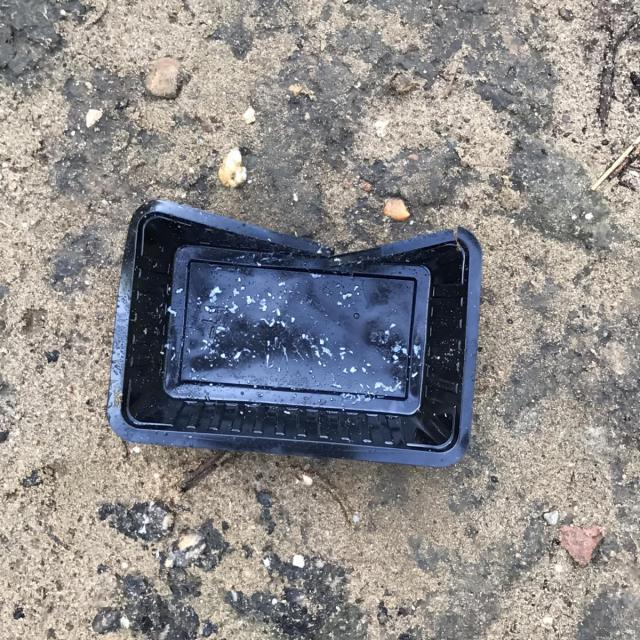Plastic: (104, 200, 487, 473)
